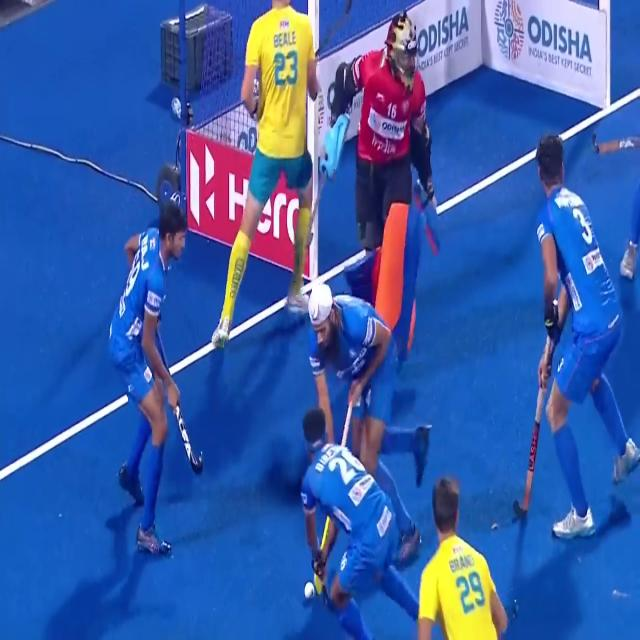ball: (299, 568, 321, 609)
